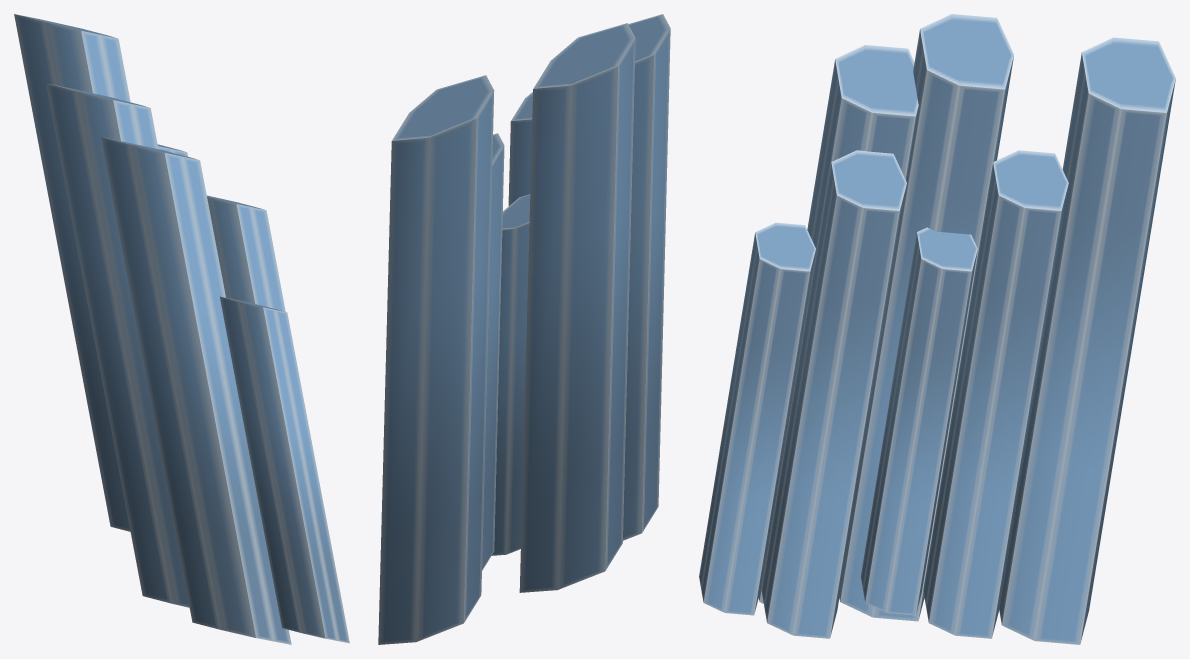
The model's file is wall_crystal_pipes_05.fbx.
The picture shows the model from 3 angles, left to right: view 1: azimuth 30°, elevation 25°; view 2: azimuth 150°, elevation 25°; view 3: azimuth 270°, elevation 25°; orthographic projection. The views are drawn at different scales.
Parts seen in each view (by area): view 1: wall_crystal_pipes_05; view 2: wall_crystal_pipes_05; view 3: wall_crystal_pipes_05.
Boxes of the visible parts, left/top/right/bottom form: wall_crystal_pipes_05: left=14, top=14, right=349, bottom=644; wall_crystal_pipes_05: left=378, top=14, right=670, bottom=644; wall_crystal_pipes_05: left=699, top=14, right=1175, bottom=644.
Bounding box in the file's own units: 0.6053 × 1.61 × 1.27.
Materials: 1 (1 with a texture image).
